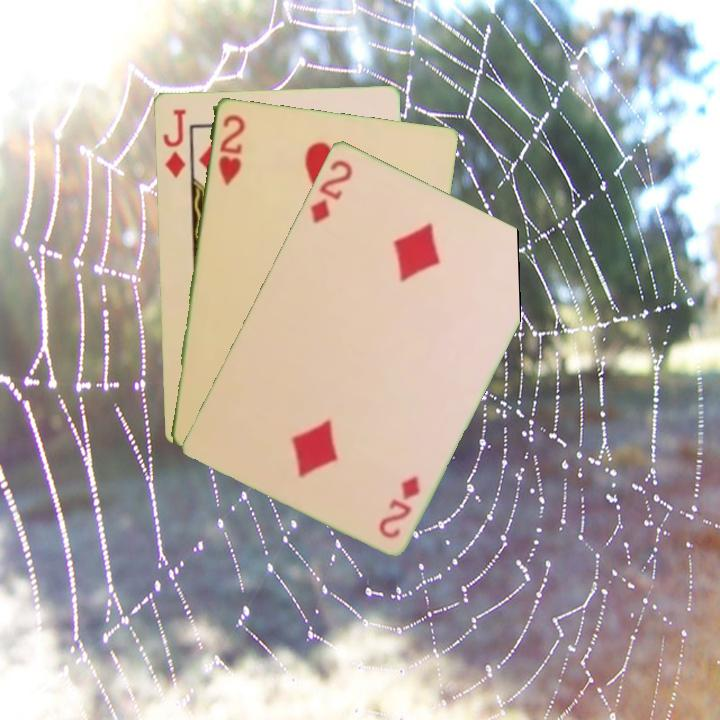2d: (306, 155, 355, 226), (374, 471, 423, 541)
2h: (214, 110, 247, 189)
Jd: (159, 105, 188, 180)
